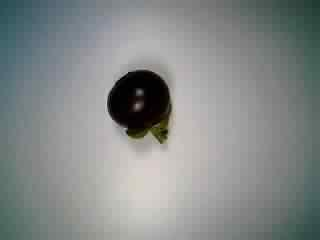mangosteen: (99, 67, 178, 147)
